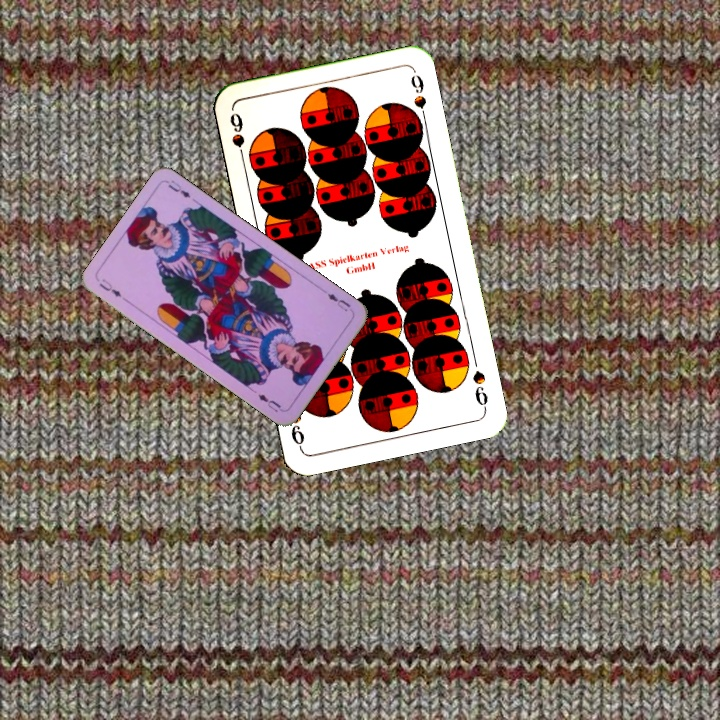EU: (95, 274, 124, 300), (323, 289, 353, 314)
S9: (225, 108, 248, 166), (468, 366, 491, 412)
